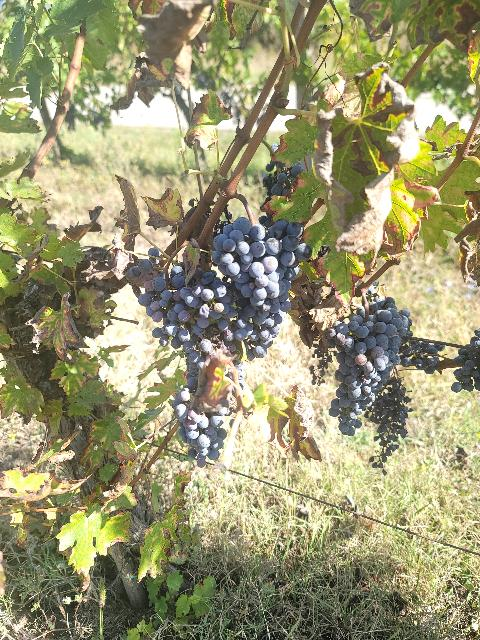grapes: (212, 218, 311, 360), (325, 286, 410, 436), (129, 259, 190, 349), (364, 371, 412, 475), (179, 271, 236, 329)
